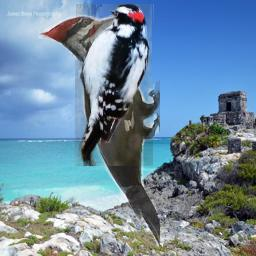Woodpecker: (38, 14, 160, 250), (72, 4, 154, 166)
